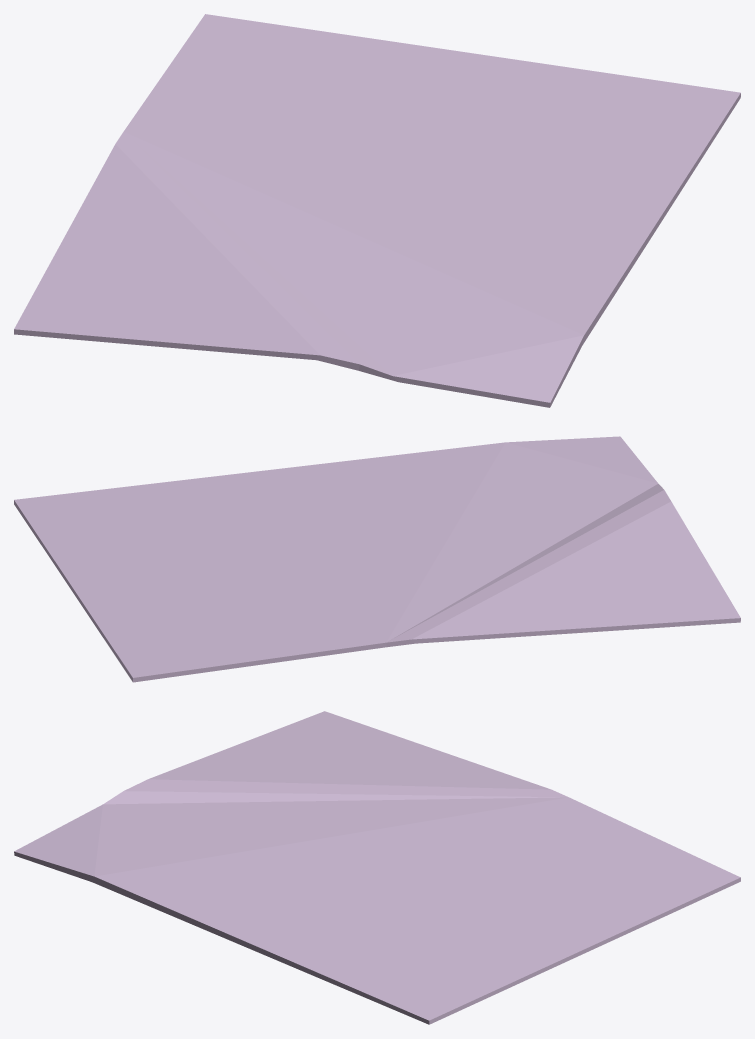
File: SM_Paper.fbx
3 renders of one model, top to bottom at view 1: azimuth 30°, elevation 25°; view 2: azimuth 150°, elevation 25°; view 3: azimuth 270°, elevation 25°, orthographic. The views are drawn at different scales.
Visible parts, largest first — view 1: paper.001; view 2: paper.001; view 3: paper.001.
Boxes of the visible parts, x1,y1,x2,y2 form: paper.001: (14,14,740,407); paper.001: (14,436,740,682); paper.001: (14,711,740,1024).
Size of the model in its own units: 156 by 7.08 by 157.
